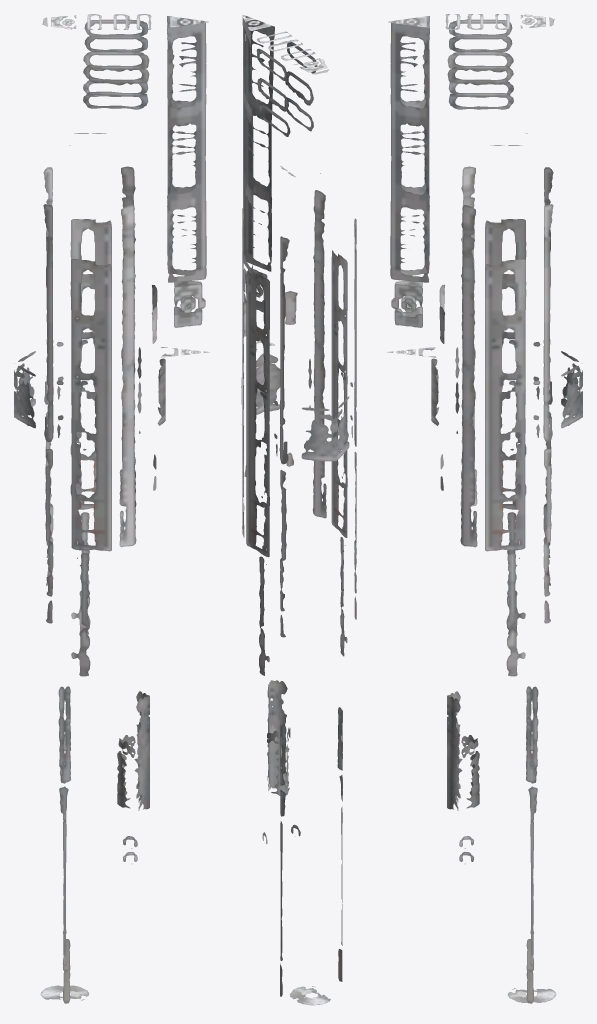
The model's file is wp_hvy_stun_cannon_l1.fbx.
3 renders of one model, left to right at view 1: azimuth 90°, elevation 25°; view 2: azimuth 210°, elevation 25°; view 3: azimuth 270°, elevation 25°, orthographic. The views are drawn at different scales.
Parts seen in each view (by area): view 1: mesh_node; view 2: mesh_node; view 3: mesh_node.
Boxes of the visible parts, bbox=[...] form: mesh_node: bbox=[14, 14, 209, 1003]; mesh_node: bbox=[241, 15, 356, 1005]; mesh_node: bbox=[387, 14, 582, 1003].
Size of the model in its own units: 0.0589 by 0.6093 by 0.1123.
